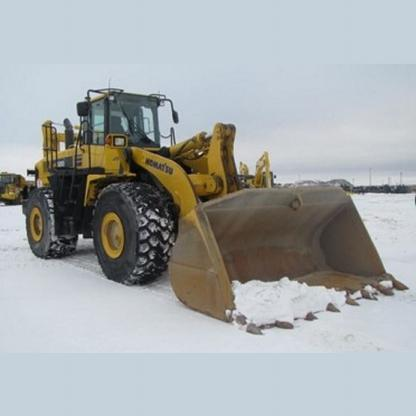bull_dozer/loader/grader: (17, 69, 415, 339)
